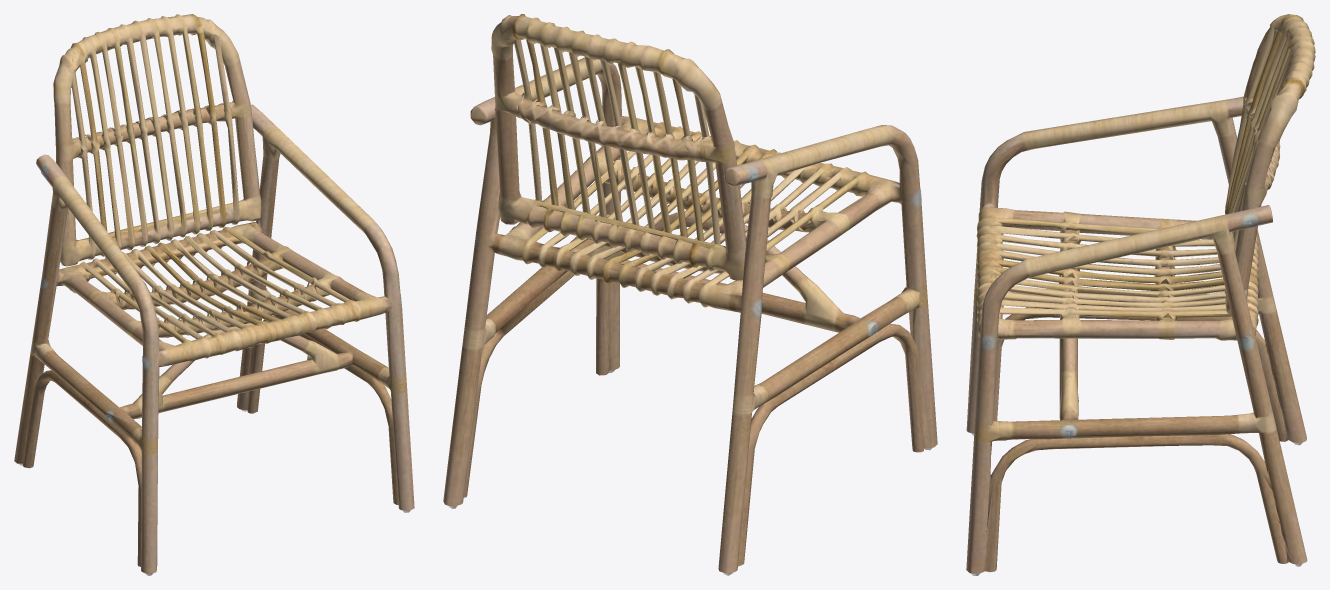
The model's file is 50551202_PS01_S01_NV01_RQP1_4.0.glb.
The picture shows the model from 3 angles, left to right: view 1: azimuth 30°, elevation 25°; view 2: azimuth 150°, elevation 25°; view 3: azimuth 270°, elevation 25°; orthographic projection. The views are drawn at different scales.
Visible parts, largest first — view 1: ASY_ART_50551202_S01_NV01; view 2: ASY_ART_50551202_S01_NV01; view 3: ASY_ART_50551202_S01_NV01.
Boxes of the visible parts, x1=… form: ASY_ART_50551202_S01_NV01: x1=14, y1=14, x2=414, y2=575; ASY_ART_50551202_S01_NV01: x1=443, y1=14, x2=937, y2=575; ASY_ART_50551202_S01_NV01: x1=966, y1=14, x2=1315, y2=575.
Size of the model in its own units: 0.5787 by 0.8439 by 0.5786.
Materials: 1 (1 with a texture image).
